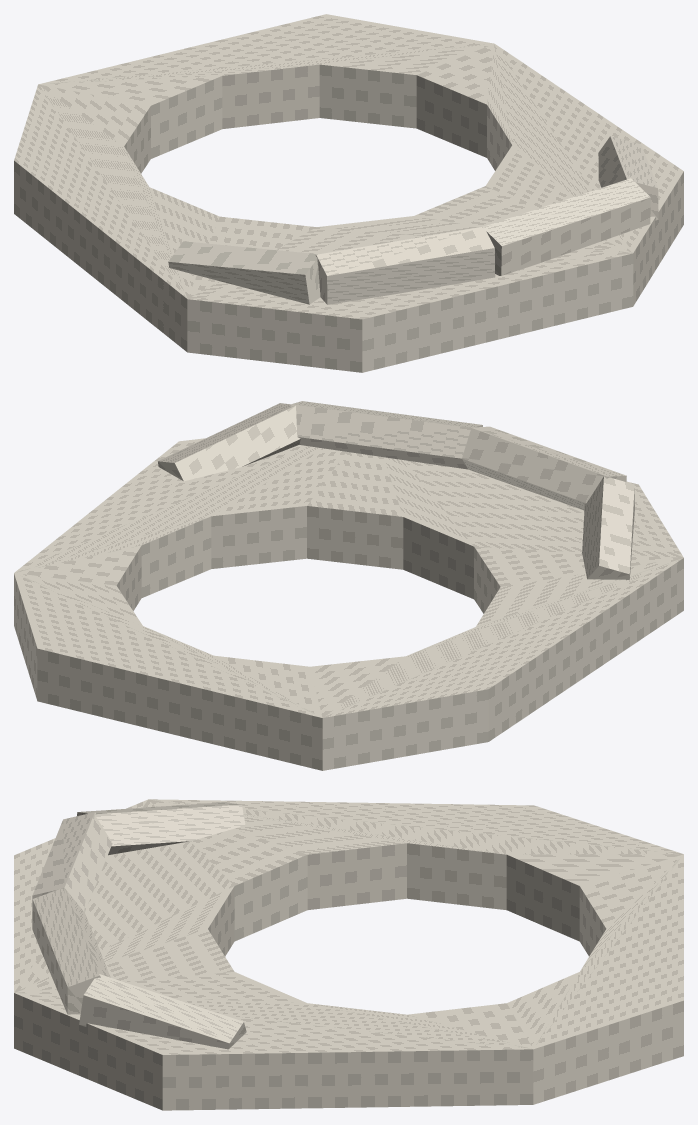
File: cowl_wool.glb
The picture shows the model from 3 angles, top to bottom: view 1: azimuth 30°, elevation 25°; view 2: azimuth 150°, elevation 25°; view 3: azimuth 270°, elevation 25°; orthographic projection. The views are drawn at different scales.
Visible parts, largest first — view 1: block_bulky knit neck loop, block_folded knit edge 1, block_folded knit edge 2, block_folded knit edge 0, block_folded knit edge 3; view 2: block_bulky knit neck loop, block_folded knit edge 2, block_folded knit edge 1, block_folded knit edge 3, block_folded knit edge 0; view 3: block_bulky knit neck loop, block_folded knit edge 3, block_folded knit edge 2, block_folded knit edge 0, block_folded knit edge 1.
Boxes of the visible parts, box(x1,y1,x2,y2) form: block_bulky knit neck loop: box(14, 14, 683, 372); block_folded knit edge 1: box(315, 226, 495, 304); block_folded knit edge 2: box(482, 178, 650, 275); block_folded knit edge 0: box(168, 241, 320, 304); block_folded knit edge 3: box(598, 136, 658, 220); block_bulky knit neck loop: box(14, 438, 683, 770); block_folded knit edge 2: box(291, 401, 482, 469); block_folded knit edge 1: box(462, 426, 626, 510); block_folded knit edge 3: box(158, 403, 300, 481); block_folded knit edge 0: box(582, 476, 634, 579); block_bulky knit neck loop: box(14, 799, 683, 1110); block_folded knit edge 3: box(79, 974, 246, 1049); block_folded knit edge 2: box(32, 887, 110, 1014); block_folded knit edge 0: box(77, 802, 245, 855); block_folded knit edge 1: box(32, 812, 112, 912).
Bounding box in the file's own units: 0.2529 × 0.0446 × 0.28.
Materials: 1 (1 with a texture image).
